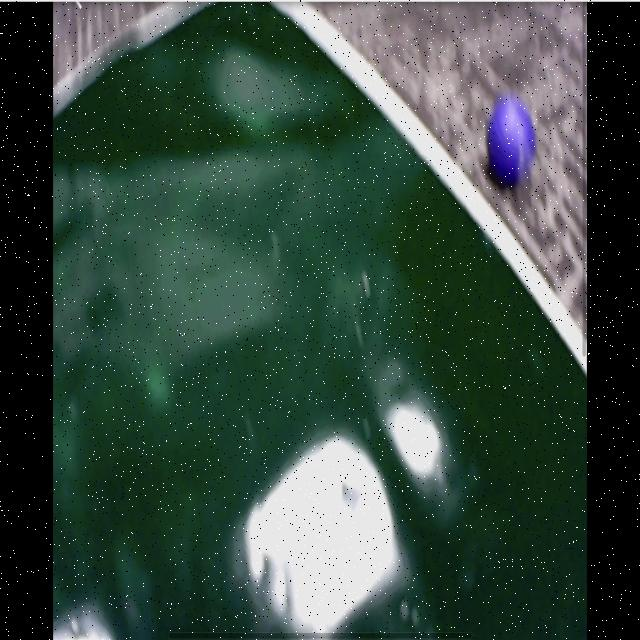ball: (487, 103, 536, 183)
